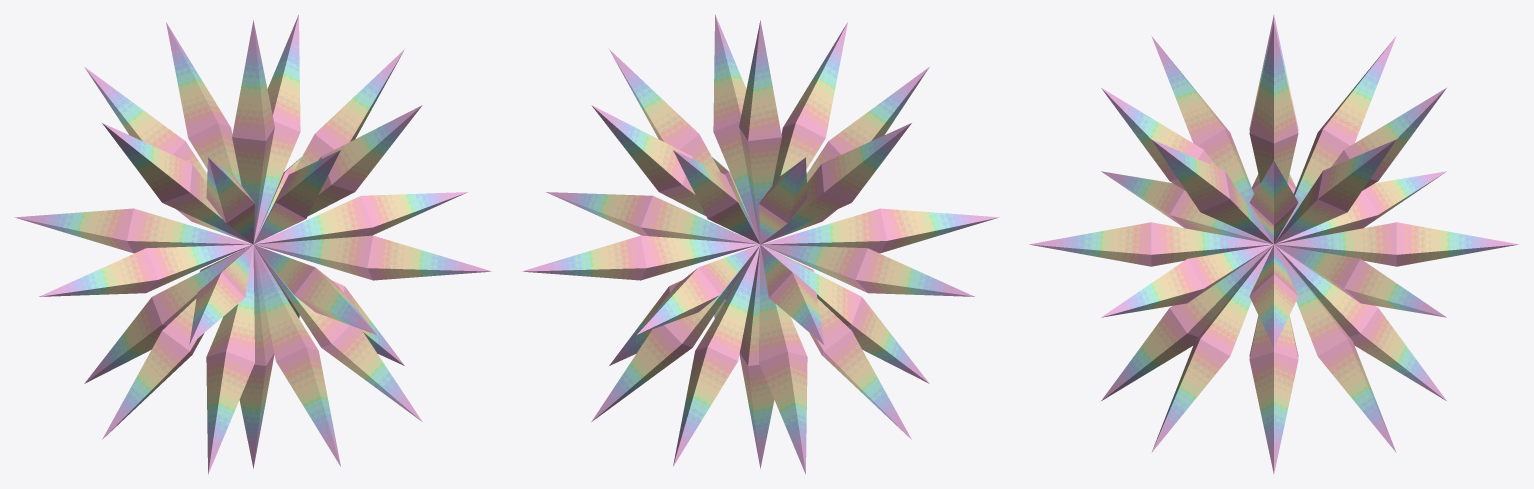
File: lightcrystal.obj
3 renders of one model, left to right at view 1: azimuth 30°, elevation 25°; view 2: azimuth 150°, elevation 25°; view 3: azimuth 270°, elevation 25°, orthographic.
Parts seen in each view (by area): view 1: object0; view 2: object0; view 3: object0.
Boxes of the visible parts, bbox=[...] form: object0: bbox=[14, 14, 492, 474]; object0: bbox=[521, 14, 999, 474]; object0: bbox=[1028, 15, 1519, 473].
Size of the model in its own units: 1.28 by 1.28 by 1.28.
Materials: 1 (1 with a texture image).
